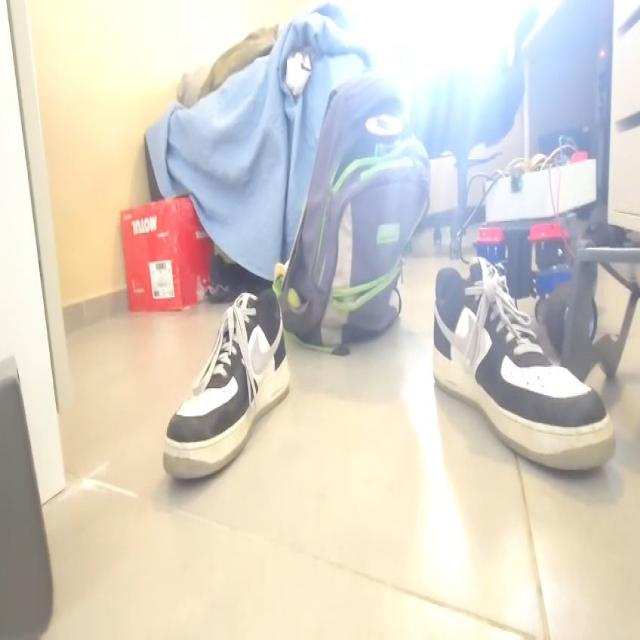Robot: (472, 147, 598, 359)
